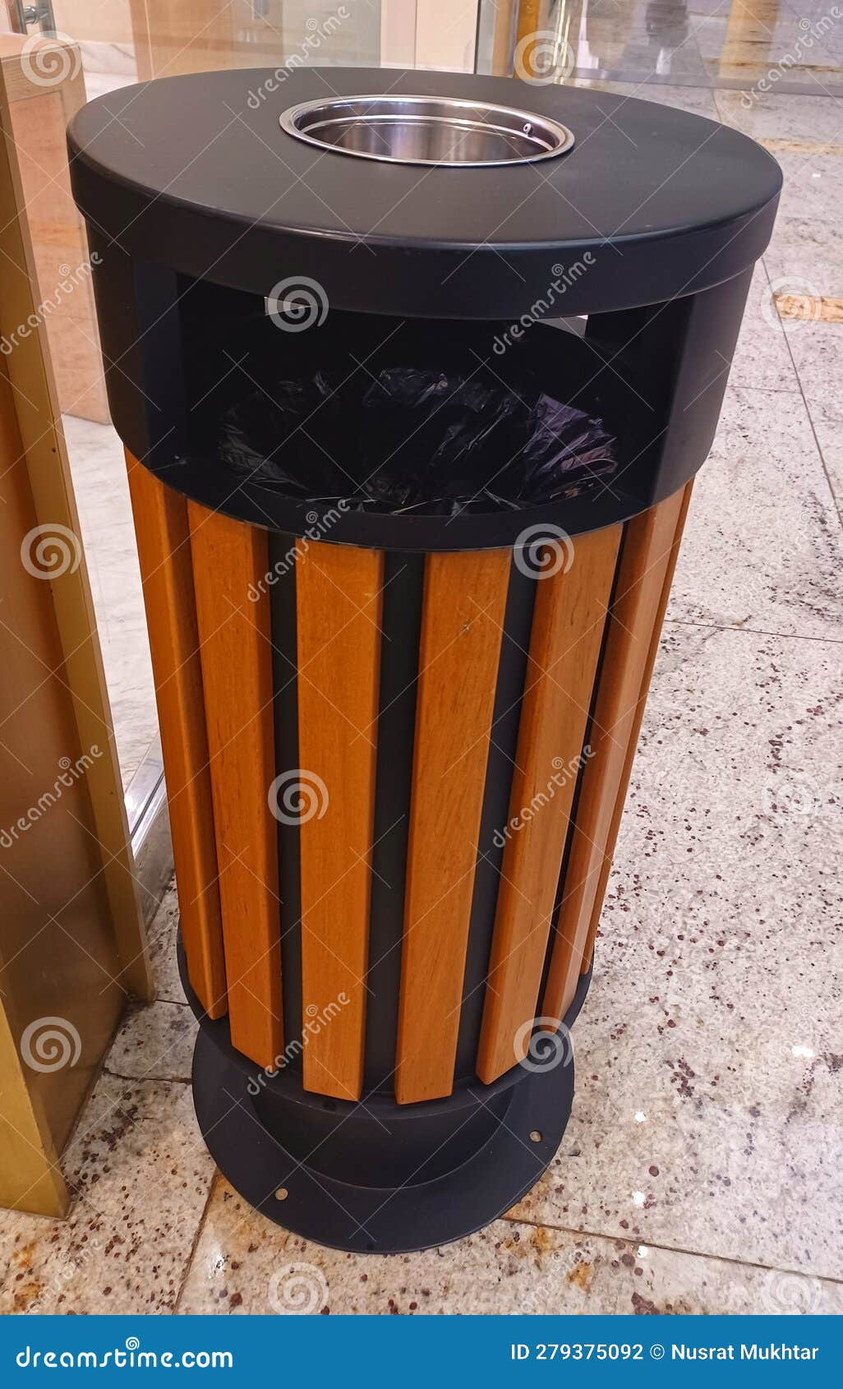empty: (275, 91, 579, 239)
